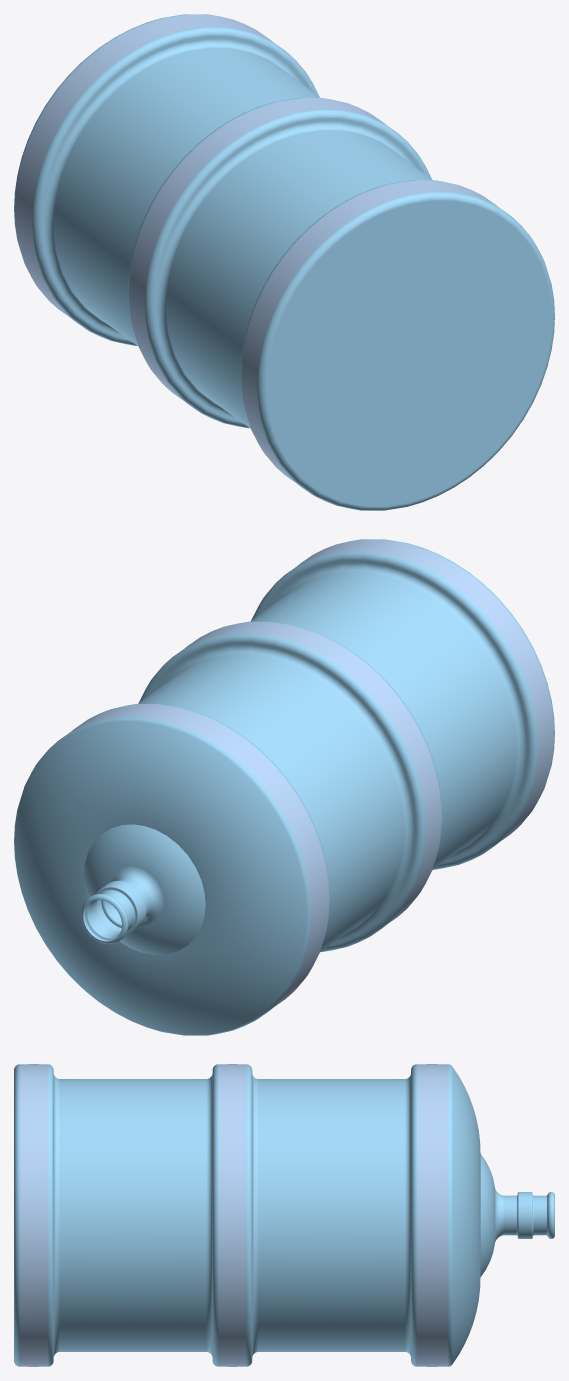
3 views of the same model, one above another, from view 1: azimuth 30°, elevation 25°; view 2: azimuth 150°, elevation 25°; view 3: azimuth 270°, elevation 25° (orthographic). The views are drawn at different scales.
Visible parts, largest first — view 1: Body1.113; view 2: Body1.113; view 3: Body1.113.
Boxes of the visible parts, x1=… form: Body1.113: x1=14, y1=14, x2=554, y2=510; Body1.113: x1=14, y1=539, x2=554, y2=1035; Body1.113: x1=14, y1=1064, x2=554, y2=1366.
Size of the model in its own units: 12.01 by 12.01 by 21.46.
